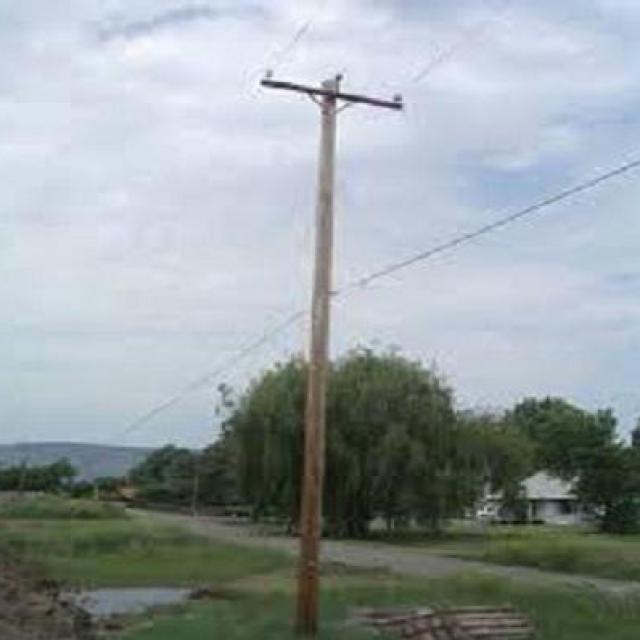non-critical vegetation: (248, 69, 413, 626)
